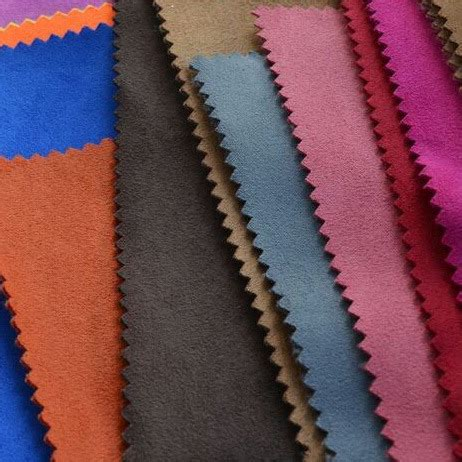gamuza: (1, 1, 461, 462)
